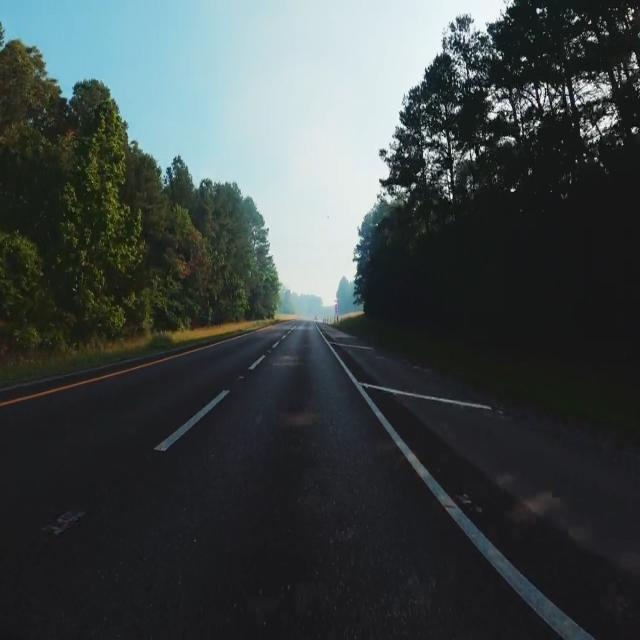asphalt: (0, 321, 640, 639)
grass: (338, 313, 640, 443), (0, 315, 288, 388)
